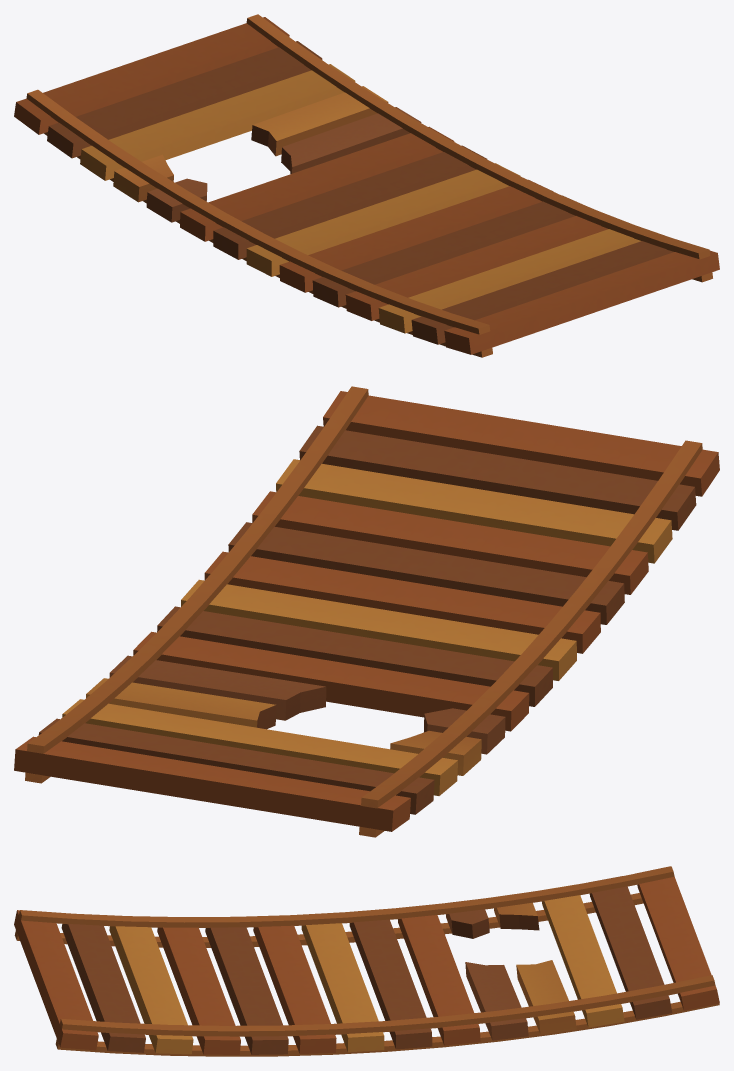
Rendered from Bridge.fbx.
3 views of the same model, one above another, from view 1: azimuth 30°, elevation 25°; view 2: azimuth 150°, elevation 25°; view 3: azimuth 270°, elevation 25° (orthographic). The views are drawn at different scales.
Visible parts, largest first — view 1: Bridge; view 2: Bridge; view 3: Bridge.
Boxes of the visible parts, box(x1,y1,x2,y2) form: Bridge: box(14, 14, 719, 357); Bridge: box(14, 386, 719, 837); Bridge: box(14, 866, 719, 1056).
Bounding box in the file's own units: 582 × 80.24 × 1038.
Materials: 1 (1 with a texture image).
